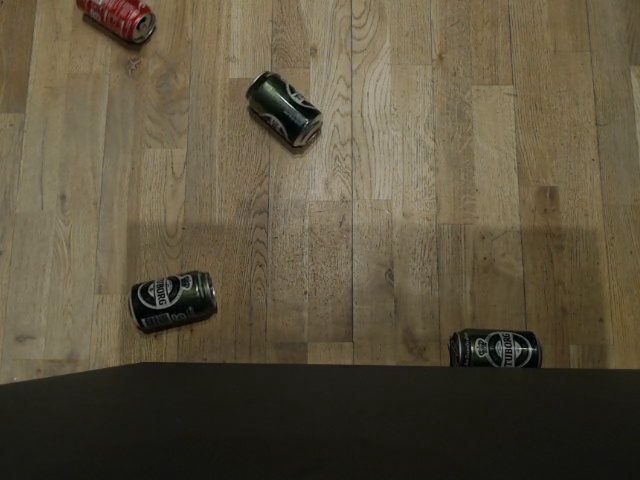coke: (567, 204, 629, 290)
